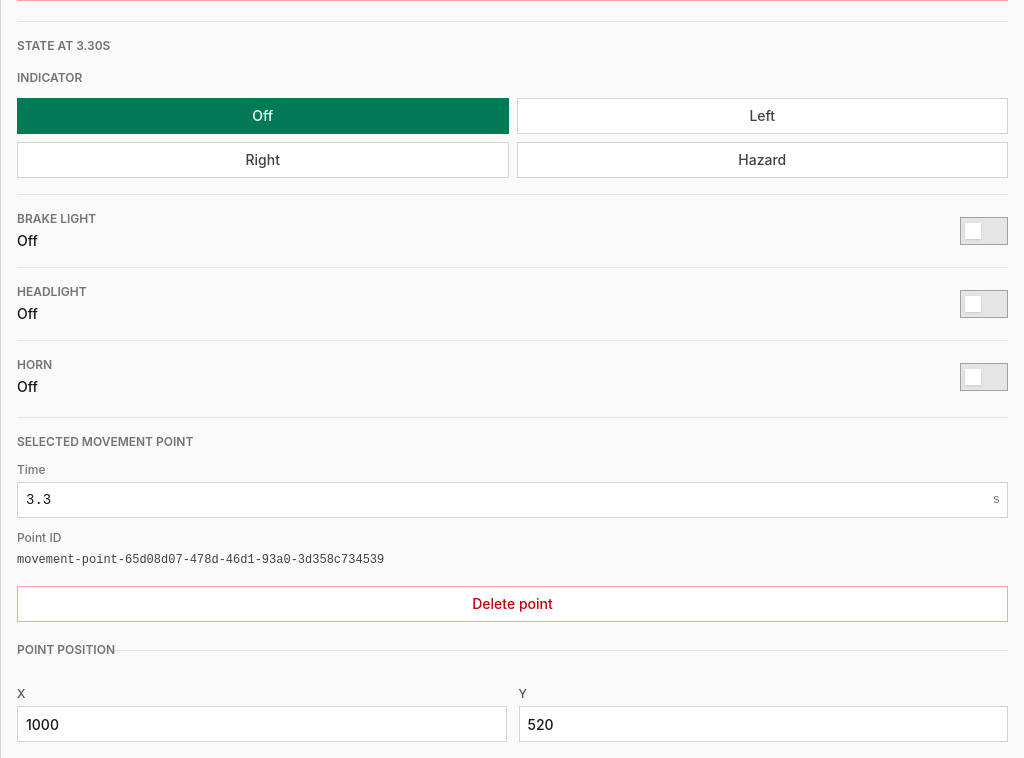
Scenario: F7.4 Movement Point delete confirmation › cancels with the button or Escape as a complete no-op
The width and height of the screenshot is (1024, 758).
(page scrolled)
Click the button "Delete point" at (512, 604), box [17, 586, 1008, 622]
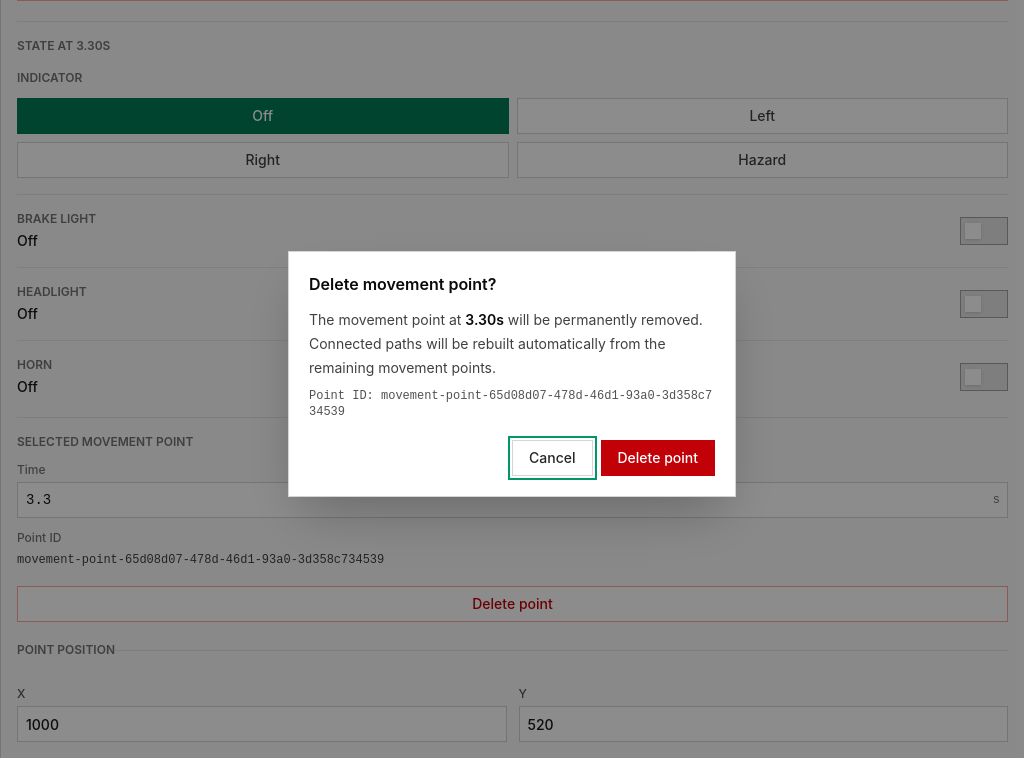
expect the button "Cancel" is shown: met
Click the button "Cancel" at (552, 458), box [512, 440, 592, 476]
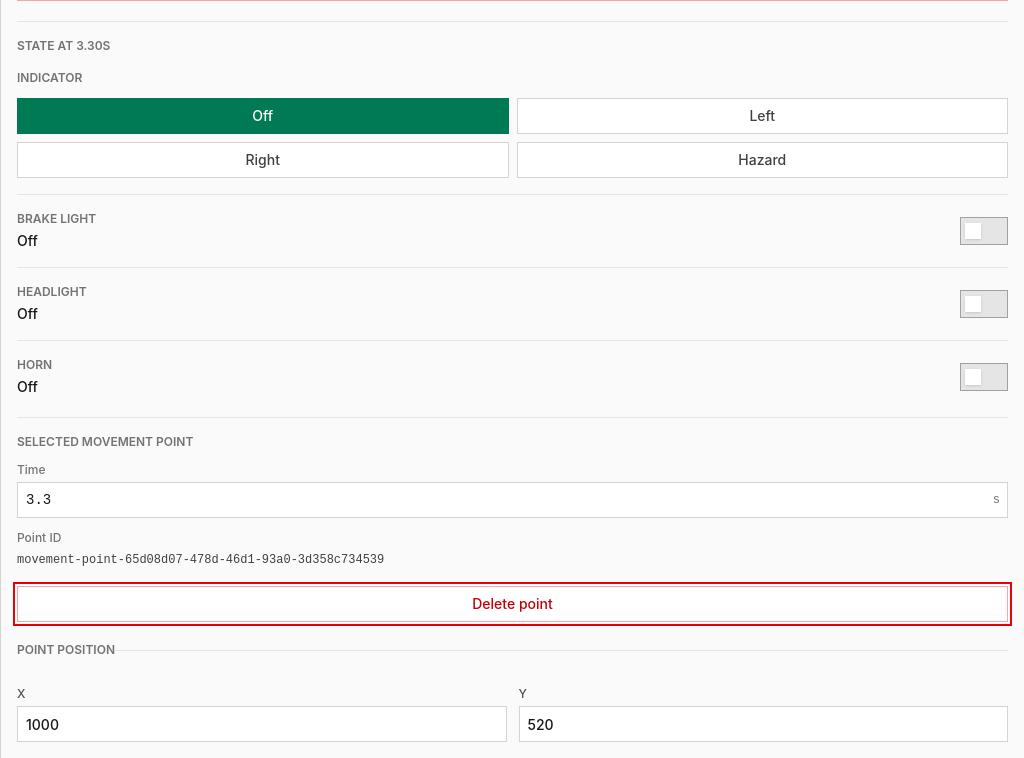
expect the dialog is gone: met
Click the button "Delete point" at (512, 604), box [17, 586, 1008, 622]
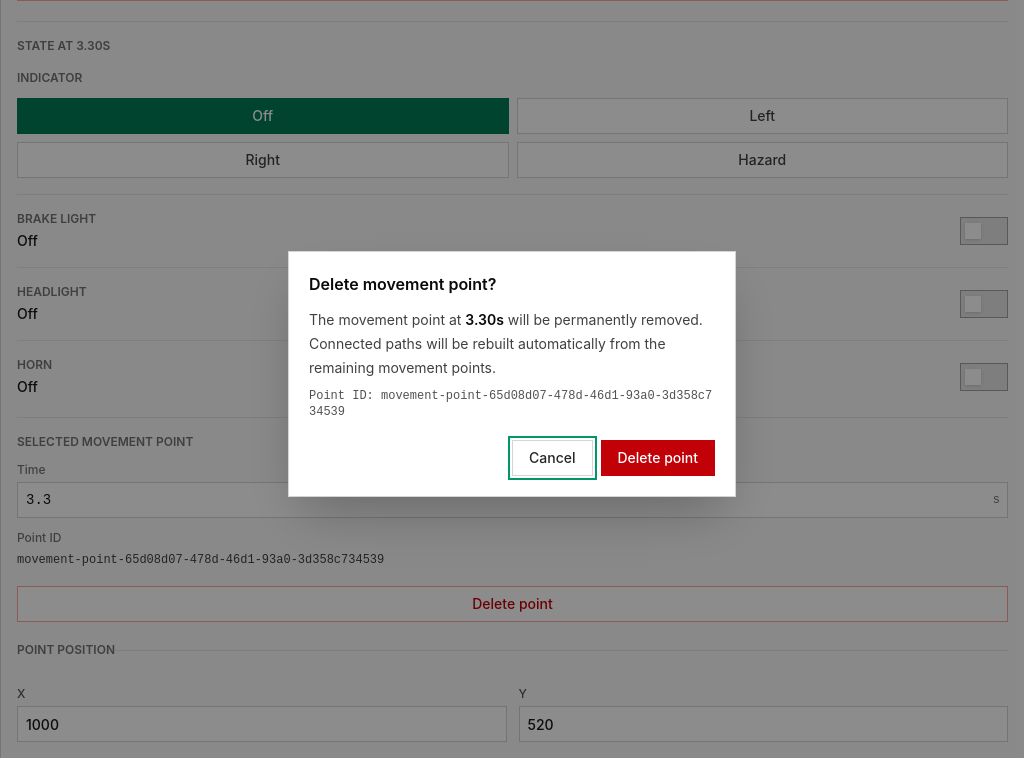
Press Escape in the dialog, box [288, 251, 736, 497]
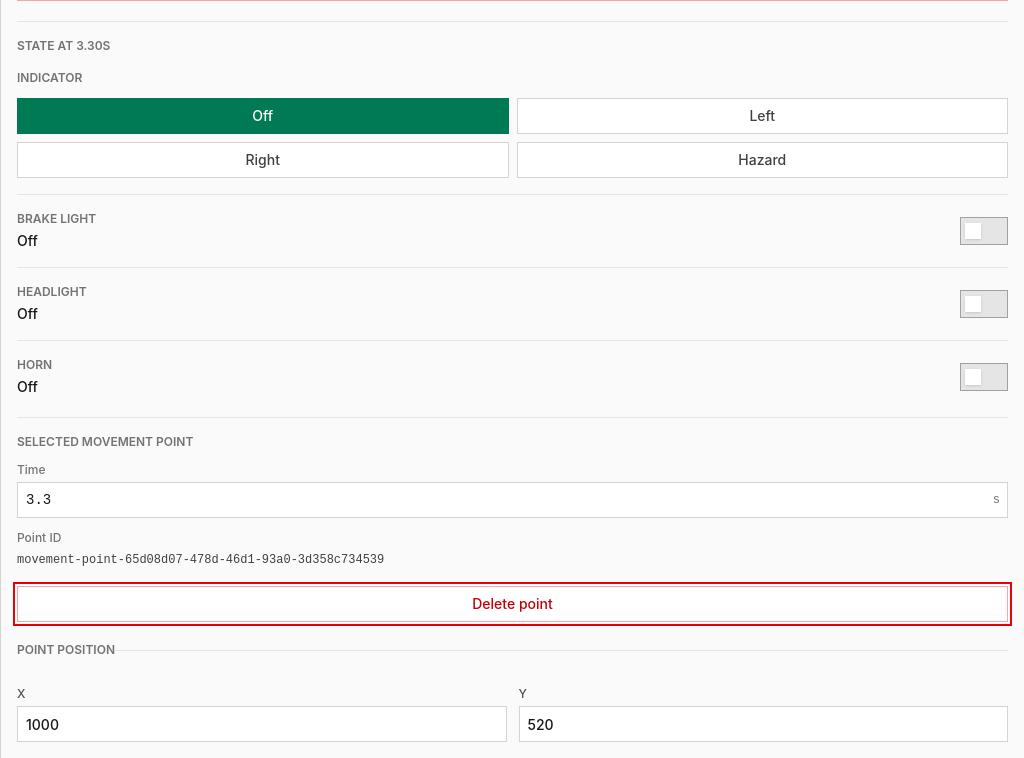
expect the dialog is gone: met
